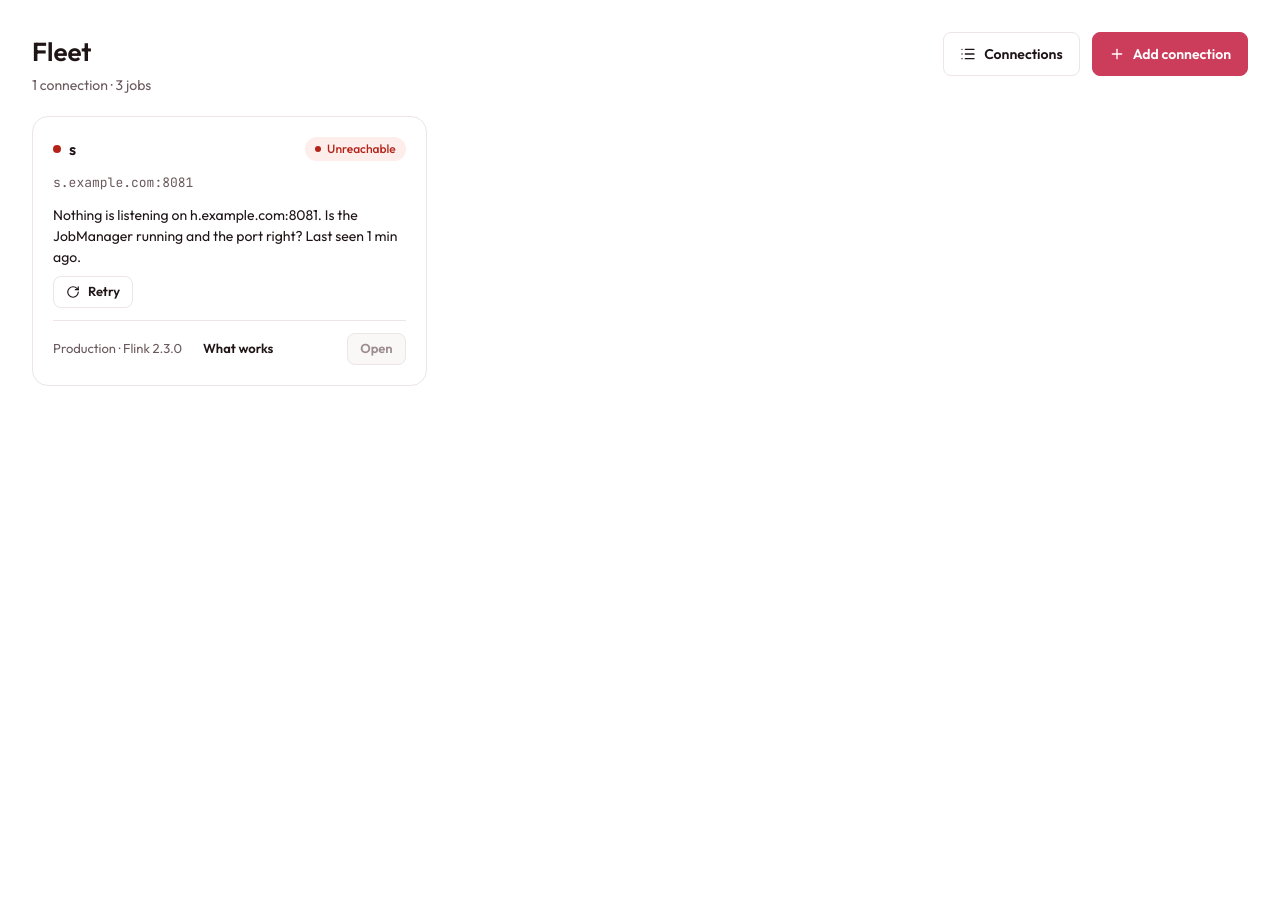
it: audit of ecae65a › #1 a Retry that fails again stays Unreachable (not Healthy), keeps Retry; recovery toasts once; #7 timeout sent
This screenshot has width=1280, height=900.
Check: the text "Unreachable" is shown, box [305,137,406,161]
Click the button with aria-label "Retry s" at point(93, 292), box [53,276,133,308]
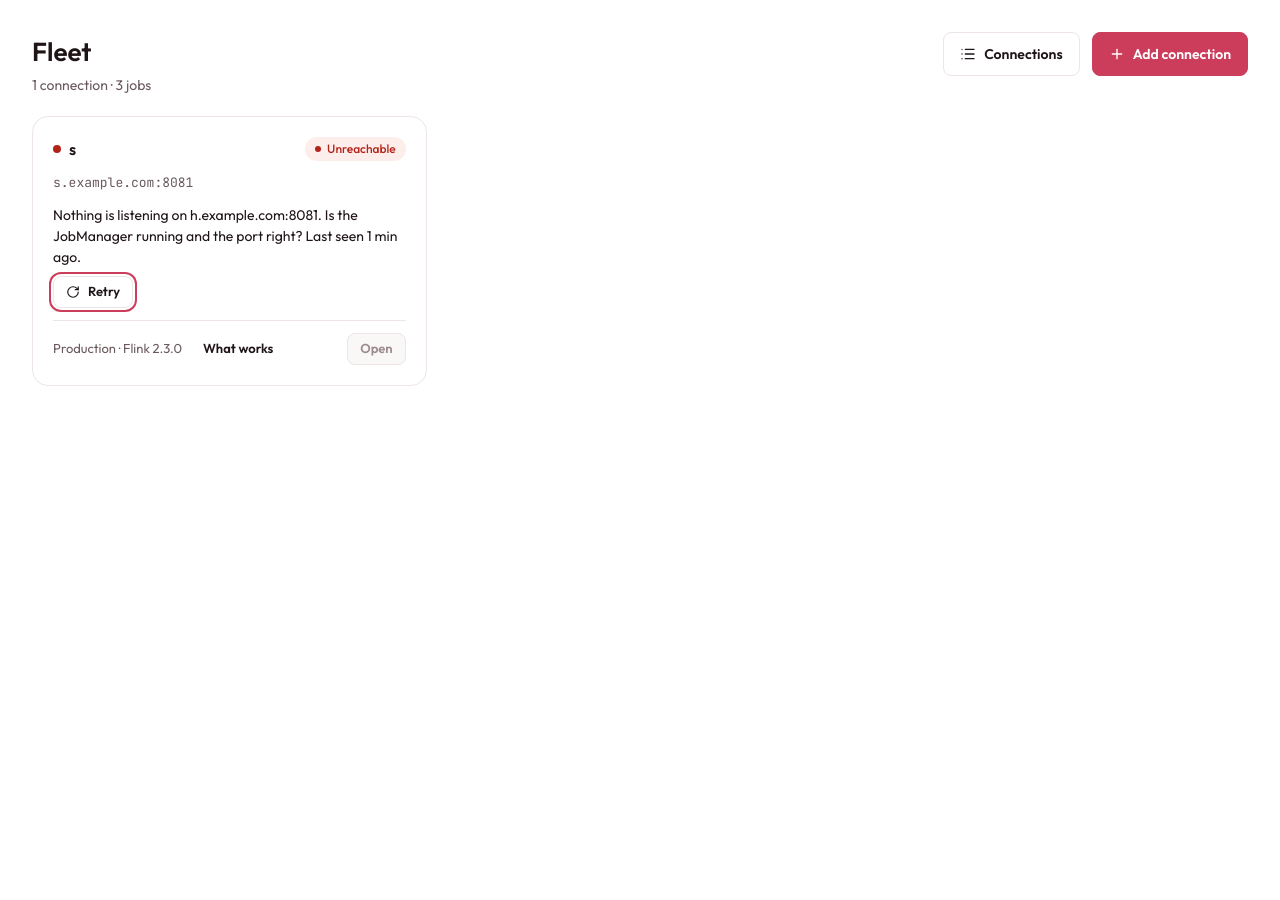
Check: the text "Unreachable" is shown, box [305,137,406,161]
Click the button with aria-label "Retry s" at point(93, 292), box [53,276,133,308]
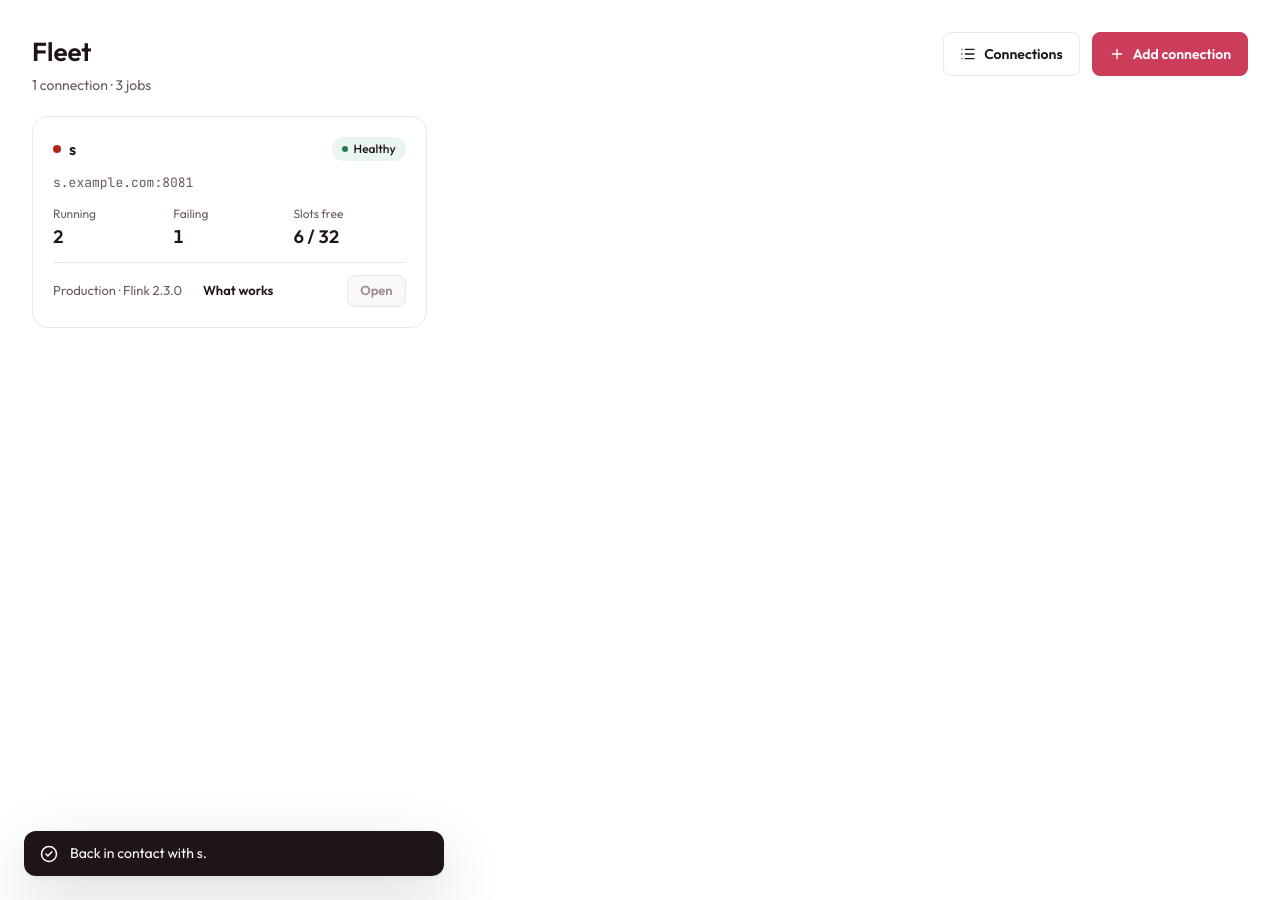
Check: the text "Healthy" is shown, box [332,137,406,161]
Check: the text "Back in contact with s." is shown, box [70,844,207,862]
